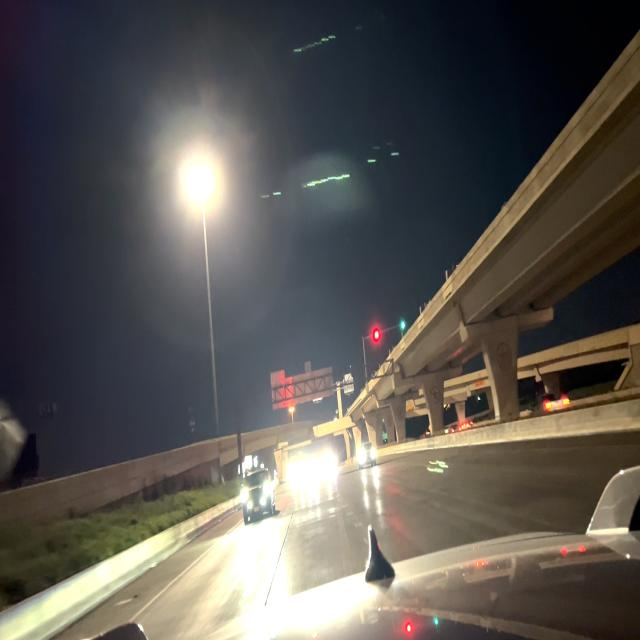back-of-sign: (270, 362, 335, 411)
